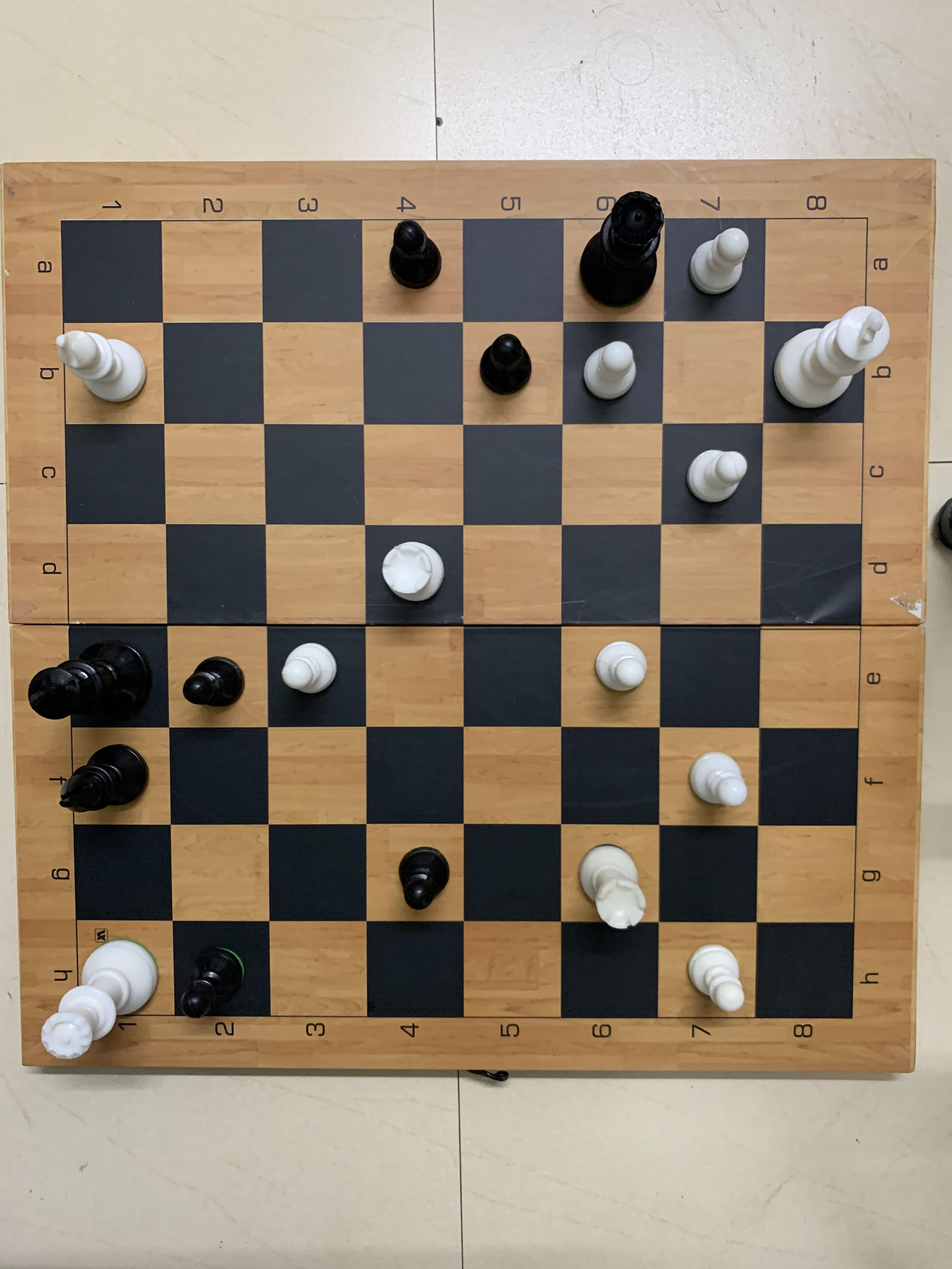black_bishop: (45, 720, 164, 826)
black_king: (23, 619, 157, 732)
black_pawn: (175, 915, 268, 1029), (368, 208, 462, 309), (173, 635, 264, 732), (376, 833, 465, 930), (469, 328, 552, 420)
black_queen: (560, 189, 658, 304)
white_bishop: (43, 328, 167, 417)
white_king: (773, 285, 912, 424)
white_pawn: (567, 625, 666, 721), (671, 203, 762, 304), (671, 729, 762, 825), (560, 318, 650, 414), (672, 431, 761, 527), (674, 922, 756, 1013), (268, 630, 352, 718)
white_queen: (25, 927, 173, 1059)
white_rook: (571, 833, 662, 929), (367, 529, 458, 620)
